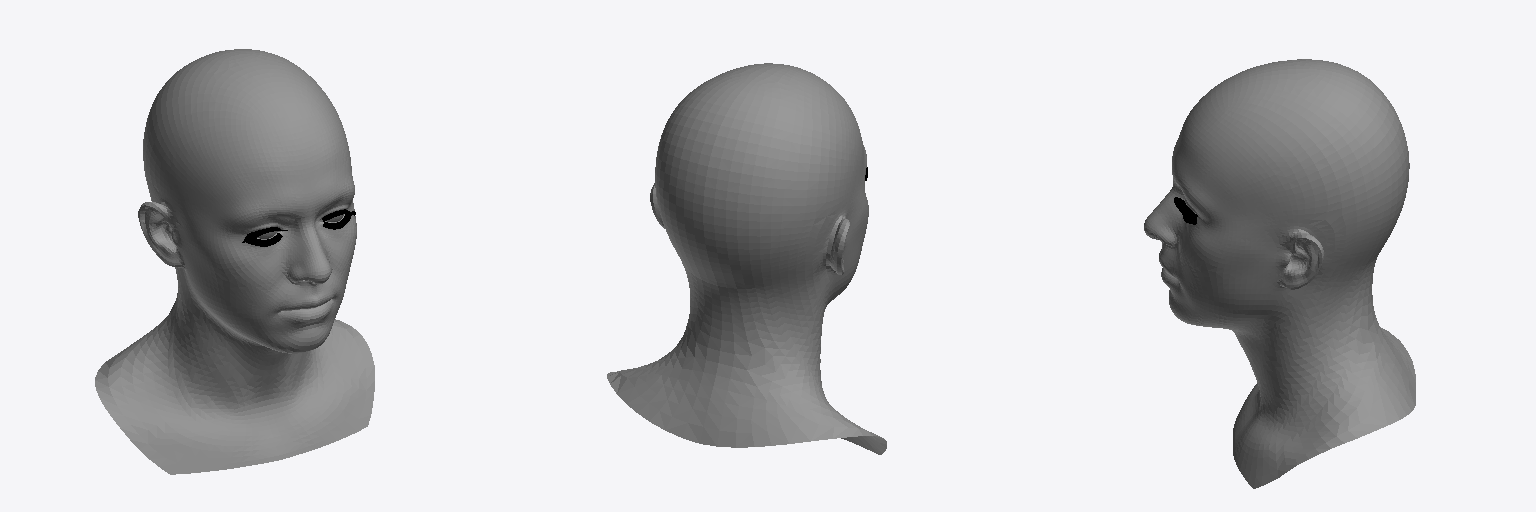
The model's file is identity092.obj.
3 views of the same model, side by side, from view 1: azimuth 30°, elevation 25°; view 2: azimuth 150°, elevation 25°; view 3: azimuth 270°, elevation 25° (orthographic).
Size of the model in its own units: 24.84 by 33.81 by 22.34.